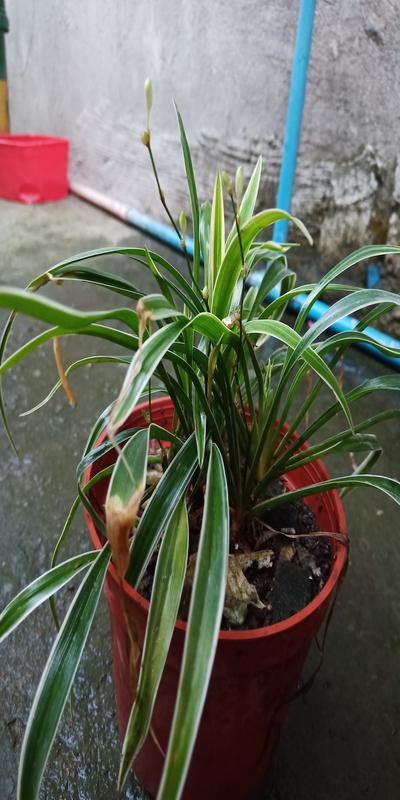Yellow and green leaf: (21, 180, 392, 554)
